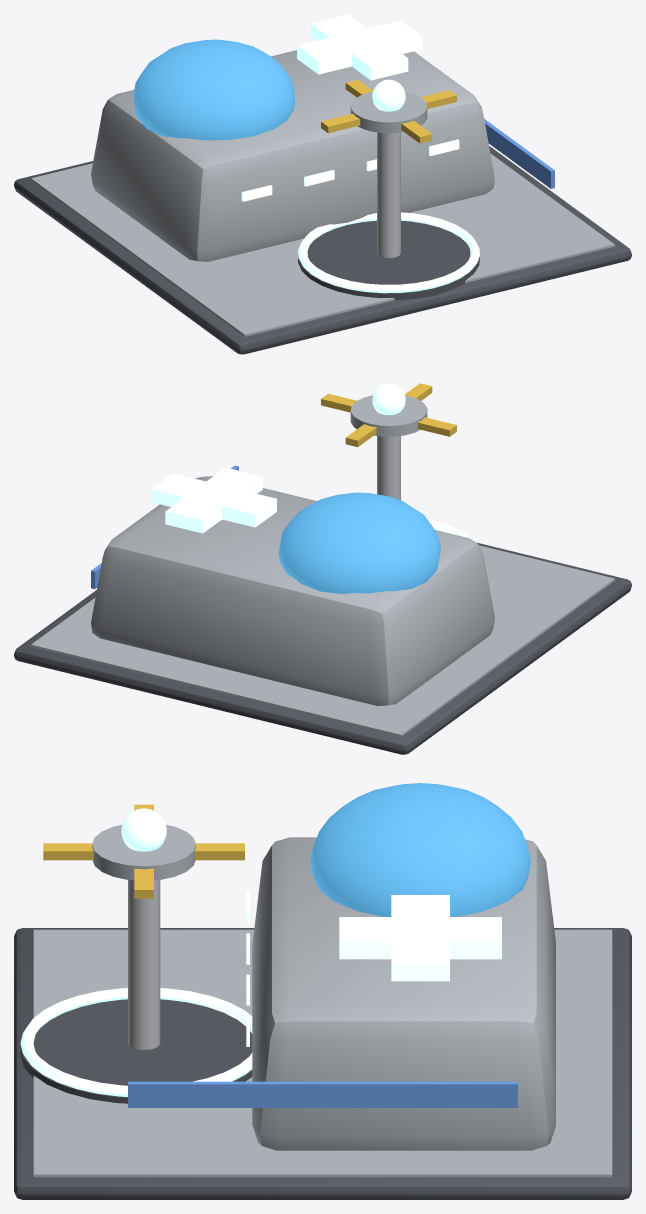
File: medic_hum.glb
3 views of the same model, one above another, from view 1: azimuth 30°, elevation 25°; view 2: azimuth 150°, elevation 25°; view 3: azimuth 270°, elevation 25° (orthographic). The views are drawn at different scales.
Visible parts, largest first — view 1: medic_hum, spin_m; view 2: medic_hum, spin_m; view 3: medic_hum, spin_m.
Part boxes in pixels (x1,y1,x2,y2): medic_hum: (14,14,631,354); spin_m: (321,79,456,143); medic_hum: (14,436,631,754); spin_m: (321,383,456,446); medic_hum: (14,783,631,1199); spin_m: (43,804,244,898).
Bounding box in the file's own units: 1.9 × 0.89 × 1.9.
